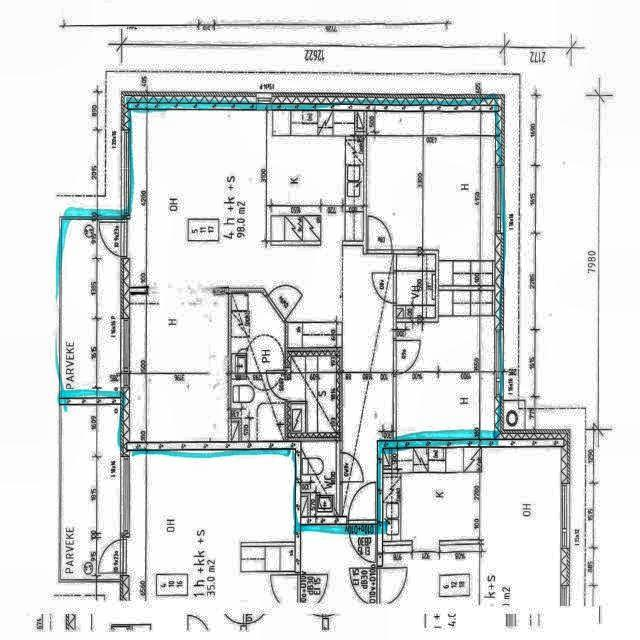room: (366, 112, 496, 261), (231, 292, 285, 441), (291, 356, 336, 433), (301, 442, 336, 516), (397, 255, 435, 318), (0, 172, 2, 177), (0, 168, 2, 170)
